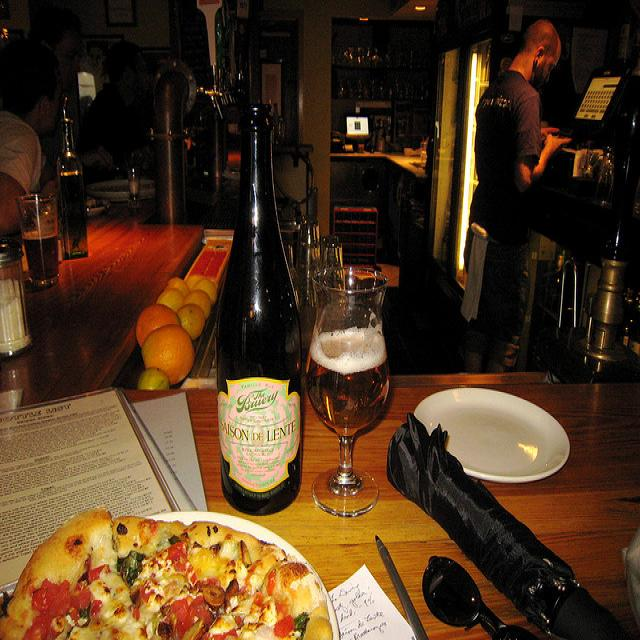Bottle: (226, 85, 310, 499), (32, 95, 94, 255)
Cup: (306, 276, 389, 518), (6, 171, 68, 287), (0, 257, 30, 380)
People: (476, 0, 574, 253)
Table: (12, 399, 640, 640), (0, 144, 234, 379)
